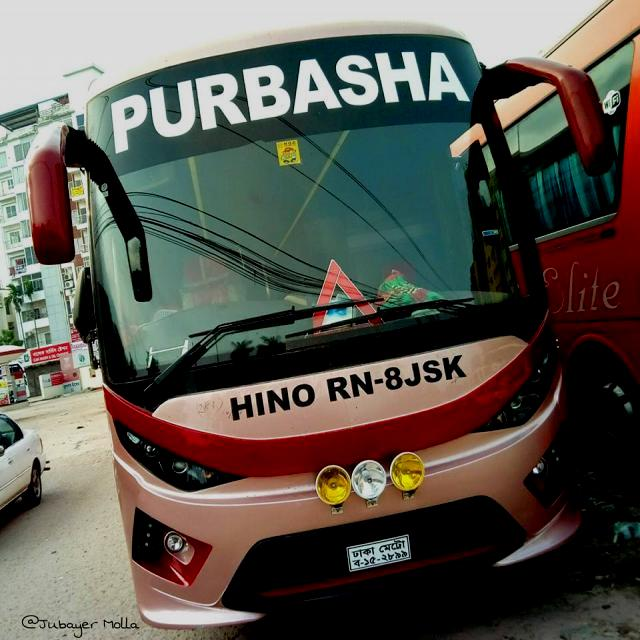bus: (22, 17, 619, 635)
